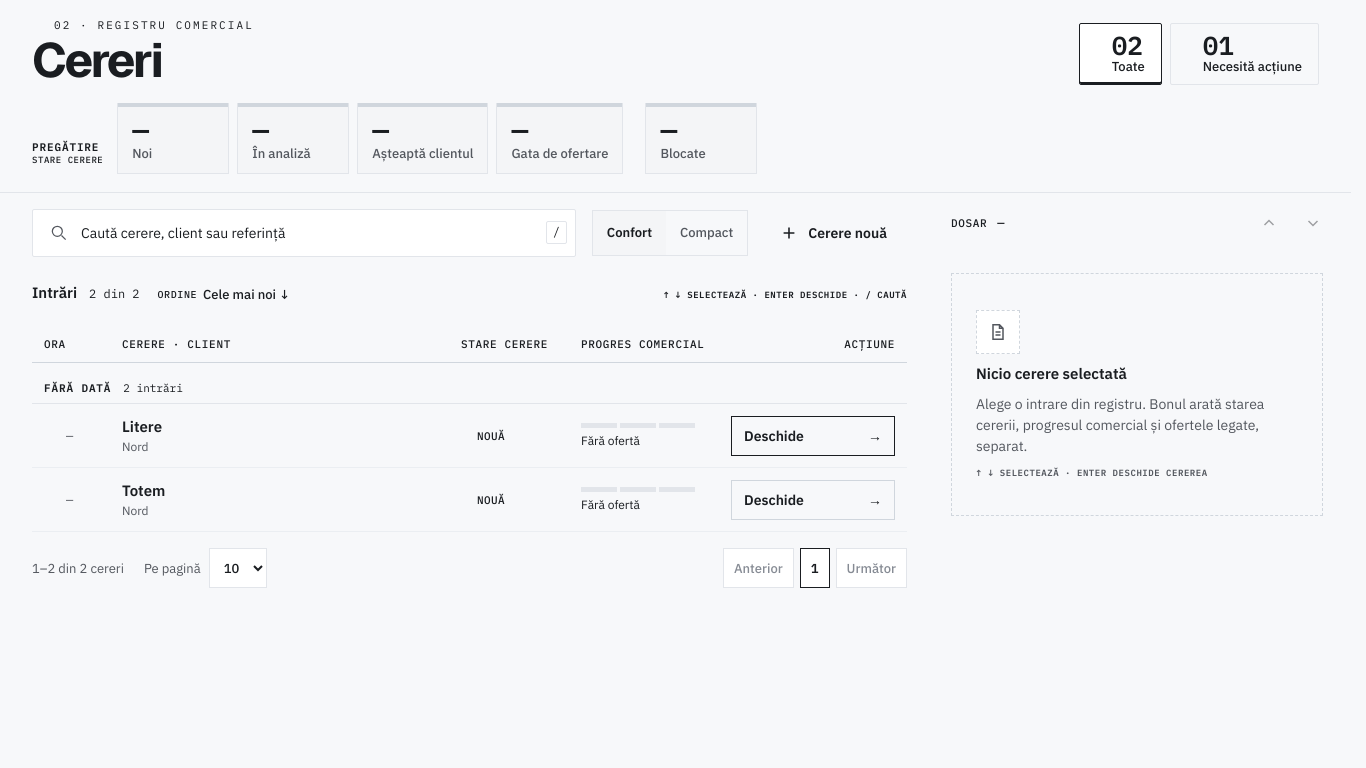
Scenario: RequestsPage › combines attention and search and resets a filtered empty result
Expected: the link "Litere" is shown, 122,417 -> 162,436
Click the button "01 Necesită acțiune".
click(1244, 54)  # box 1170,23 -> 1319,85
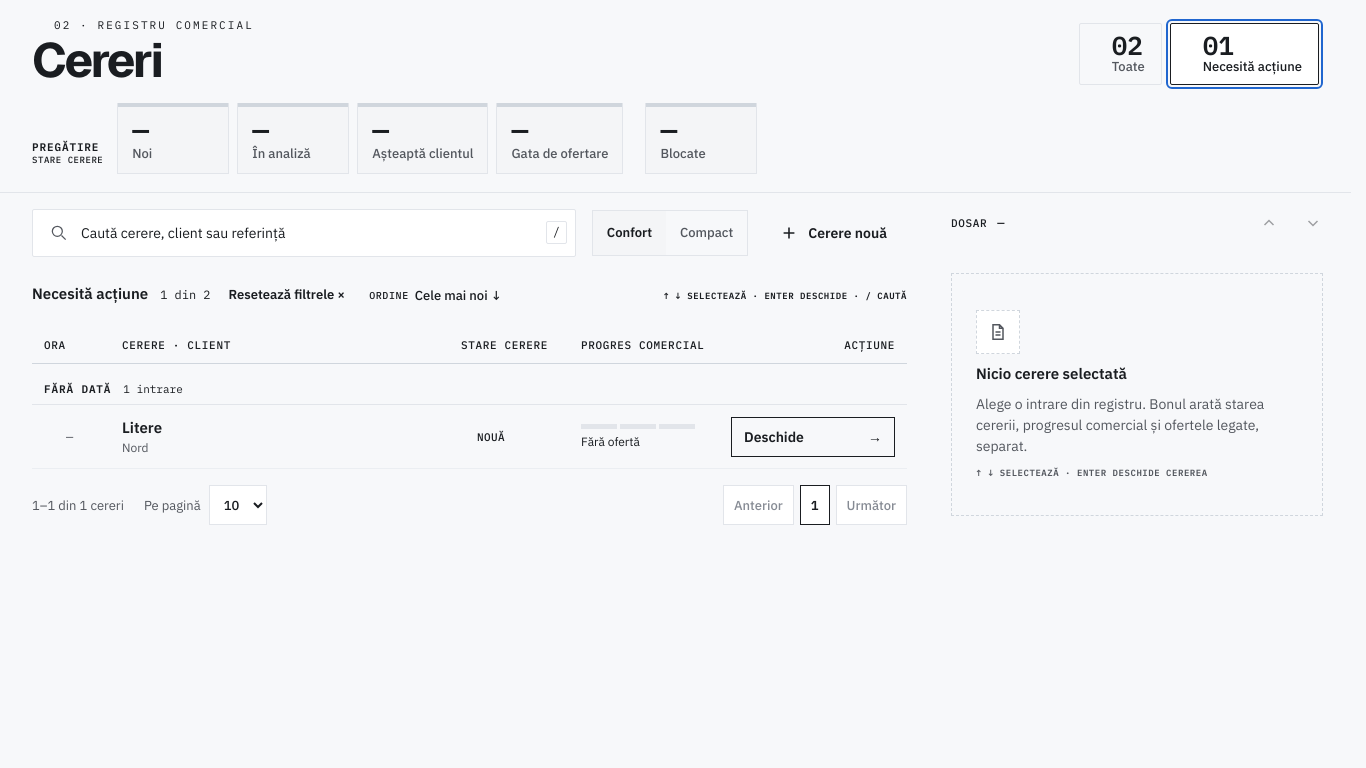
Type "Totem" into the search field labelled "Caută".
click(307, 233); type("Totem")  # box 81,210 -> 534,256
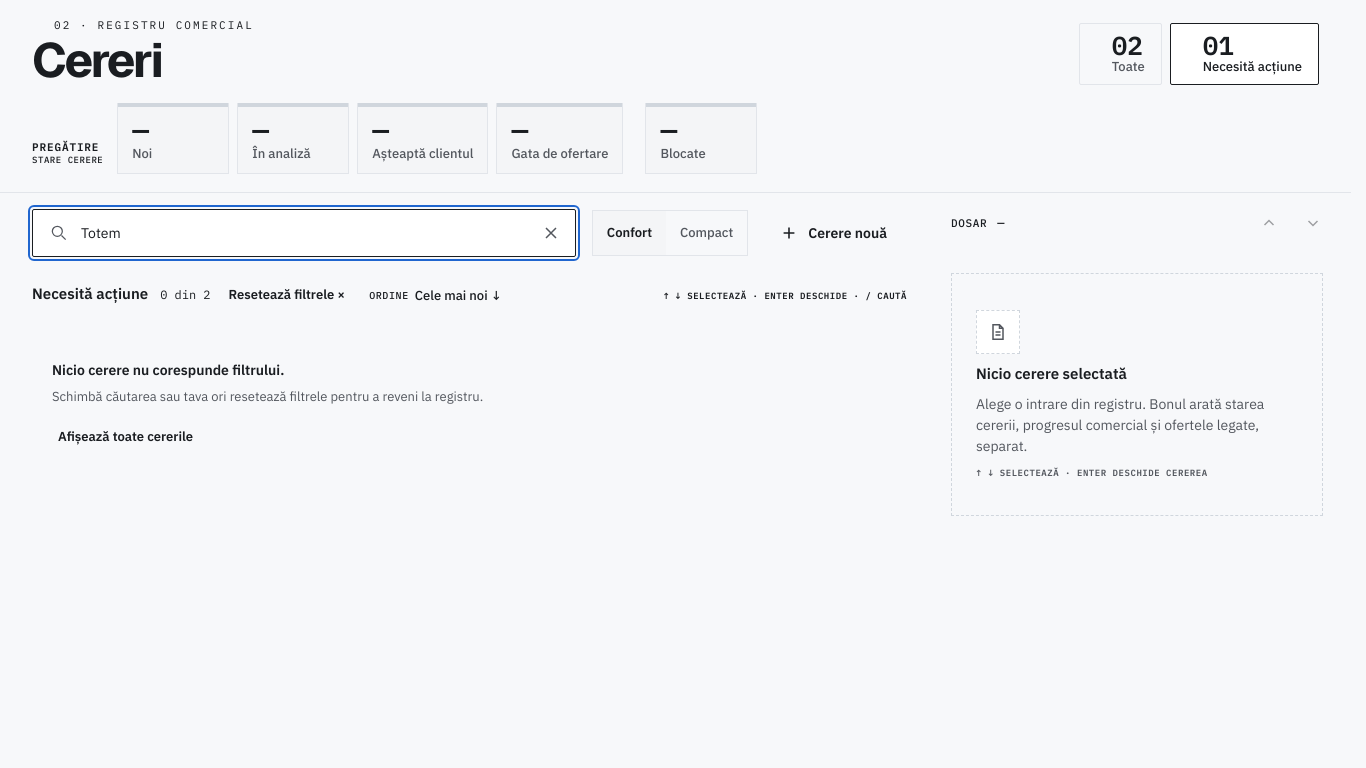
Now the text "Nicio cerere nu corespunde filtrului." is shown, box 52,360 -> 284,380
Now the text "0 din 2" is shown, box 160,287 -> 210,302
Click the button "Resetează filtrele ×".
click(287, 295)  # box 222,273 -> 351,317
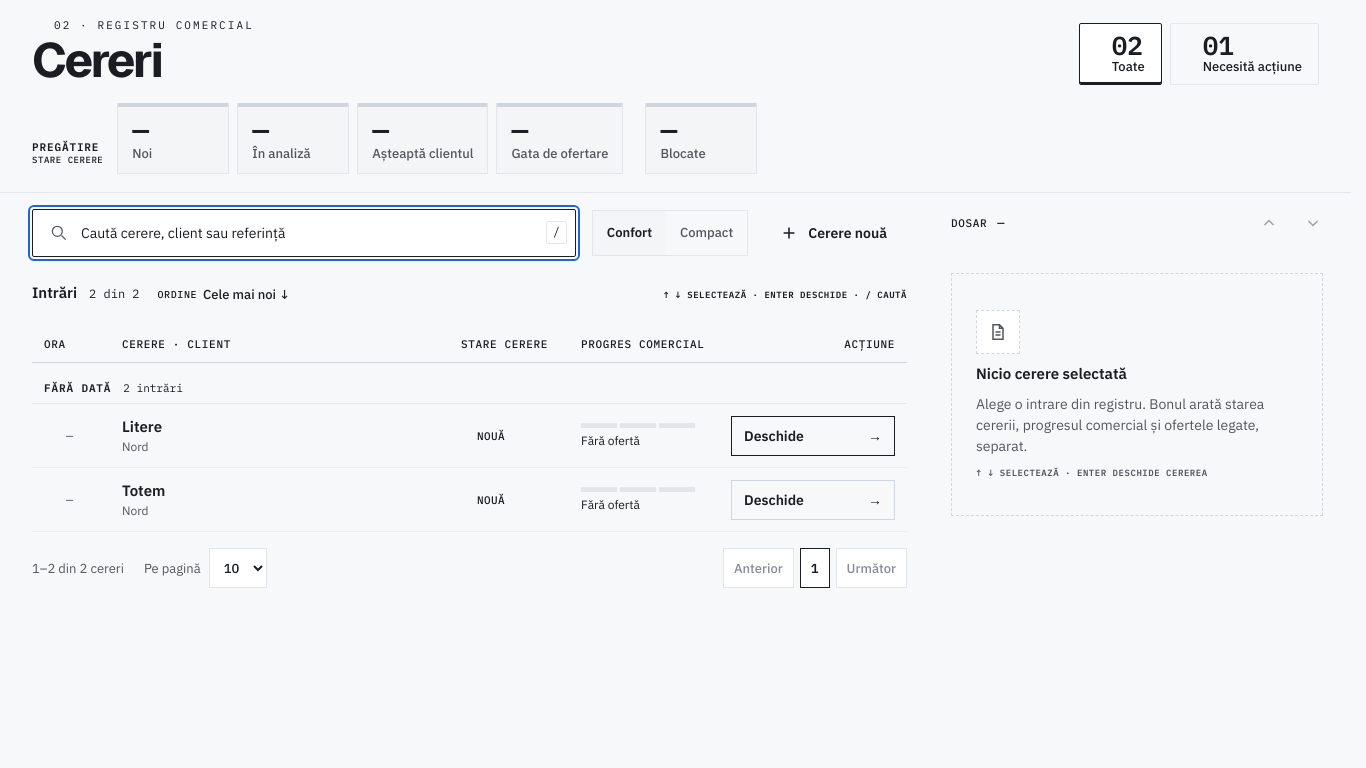
Now the search field labelled "Caută" is empty, box 81,210 -> 534,256
Now the link "Totem" is shown, box 122,481 -> 165,500
Now the message "1–2 din 2 cereri" is shown, box 32,560 -> 124,577
